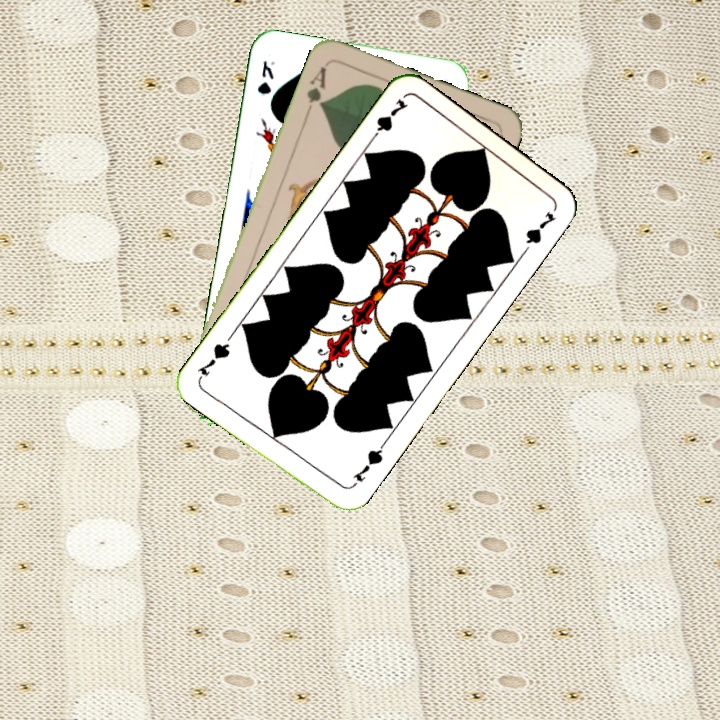G7: (365, 94, 410, 144), (346, 440, 387, 491)
GA: (301, 62, 329, 118)
GK: (253, 56, 277, 97)
